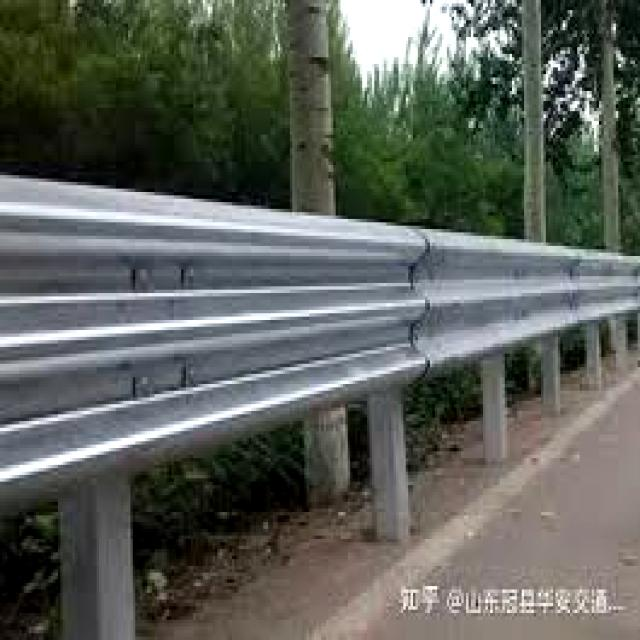Guard rail: (0, 174, 640, 505)
